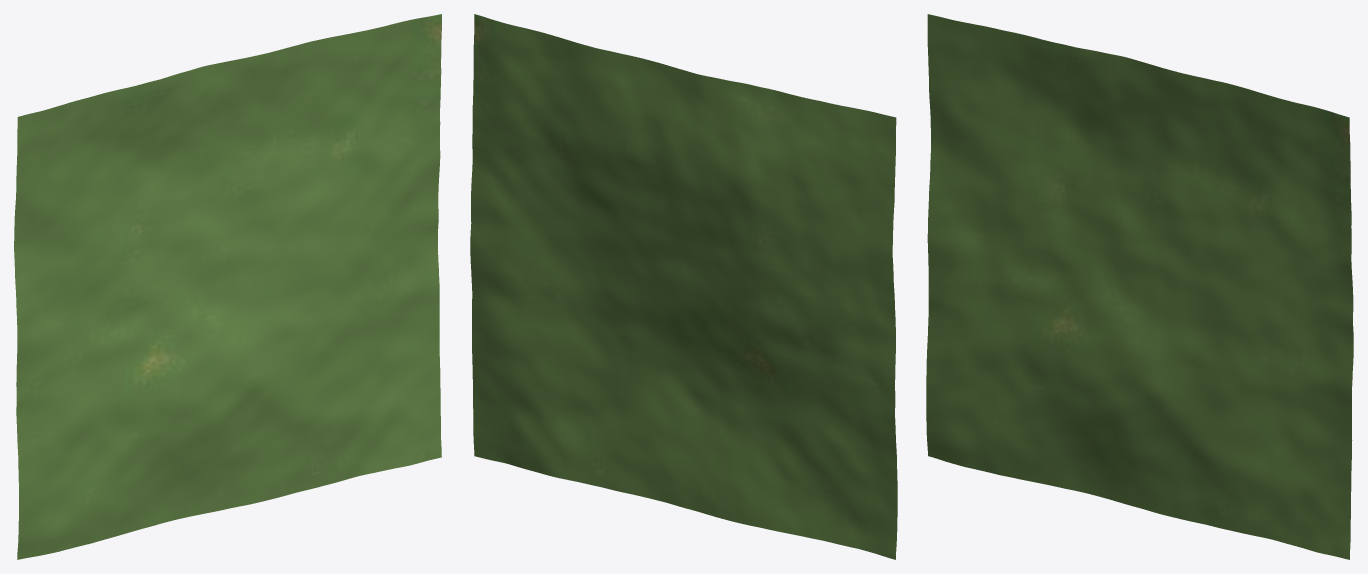
The model's file is ocean_floor.obj.
3 renders of one model, left to right at view 1: azimuth 30°, elevation 25°; view 2: azimuth 150°, elevation 25°; view 3: azimuth 330°, elevation 25°, orthographic.
Bounding box in the file's own units: 0.6975 × 0.6975 × 0.0431.
Materials: 1 (1 with a texture image).
